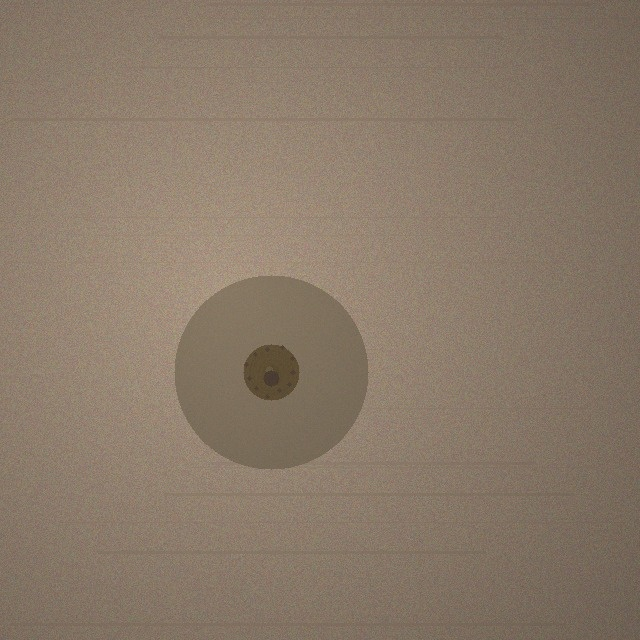cold_weld: (174, 275, 368, 469)
